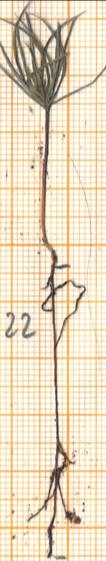flower: (0, 0, 83, 112)
root: (26, 266, 89, 561)
stem: (38, 113, 63, 264)
